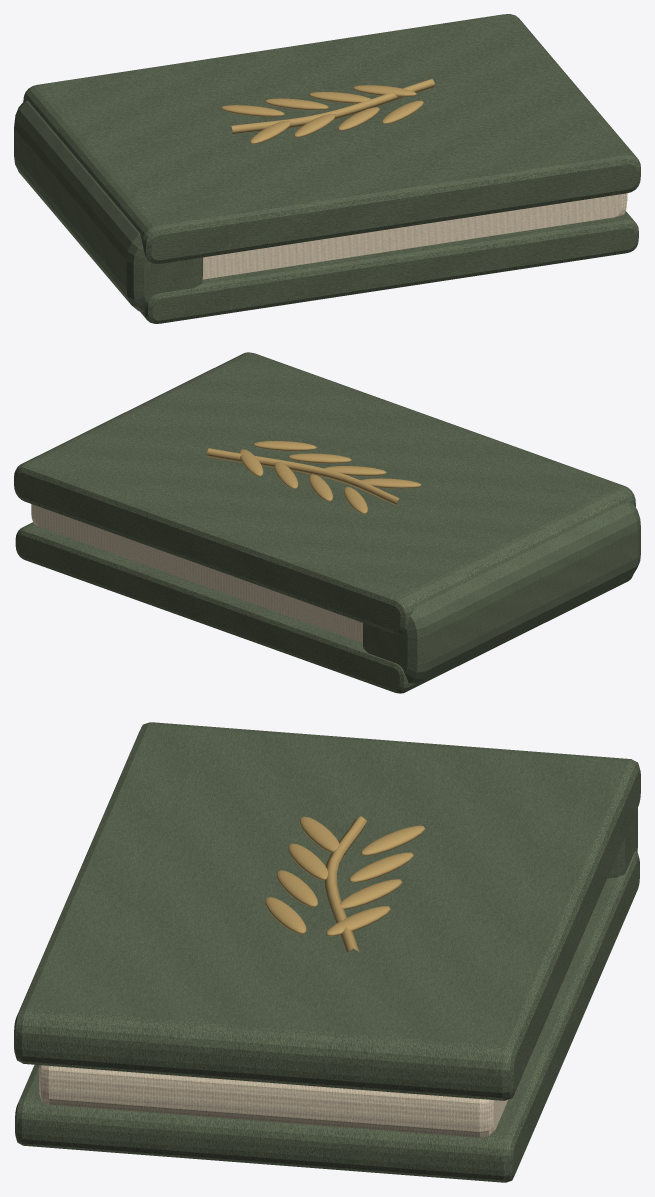
File: memory_book.glb
3 renders of one model, top to bottom at view 1: azimuth 30°, elevation 25°; view 2: azimuth 150°, elevation 25°; view 3: azimuth 270°, elevation 25°, orthographic. The views are drawn at different scales.
Visible parts, largest first — view 1: memory_book; view 2: memory_book; view 3: memory_book.
Boxes of the visible parts, <box> form: memory_book: <box>14,14,640,323</box>; memory_book: <box>14,352,640,693</box>; memory_book: <box>14,722,640,1182</box>.
Size of the model in its own units: 0.6244 by 0.123 by 0.4764.
3 materials, 2 textured.
